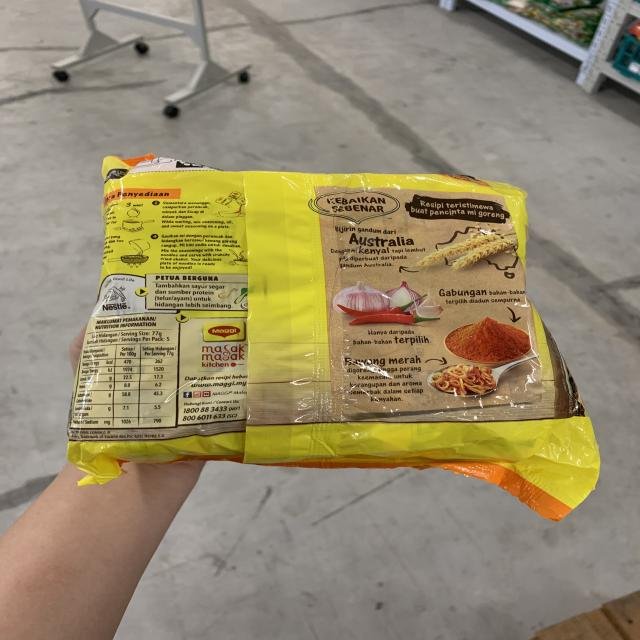object_name: (99, 166, 548, 464)
